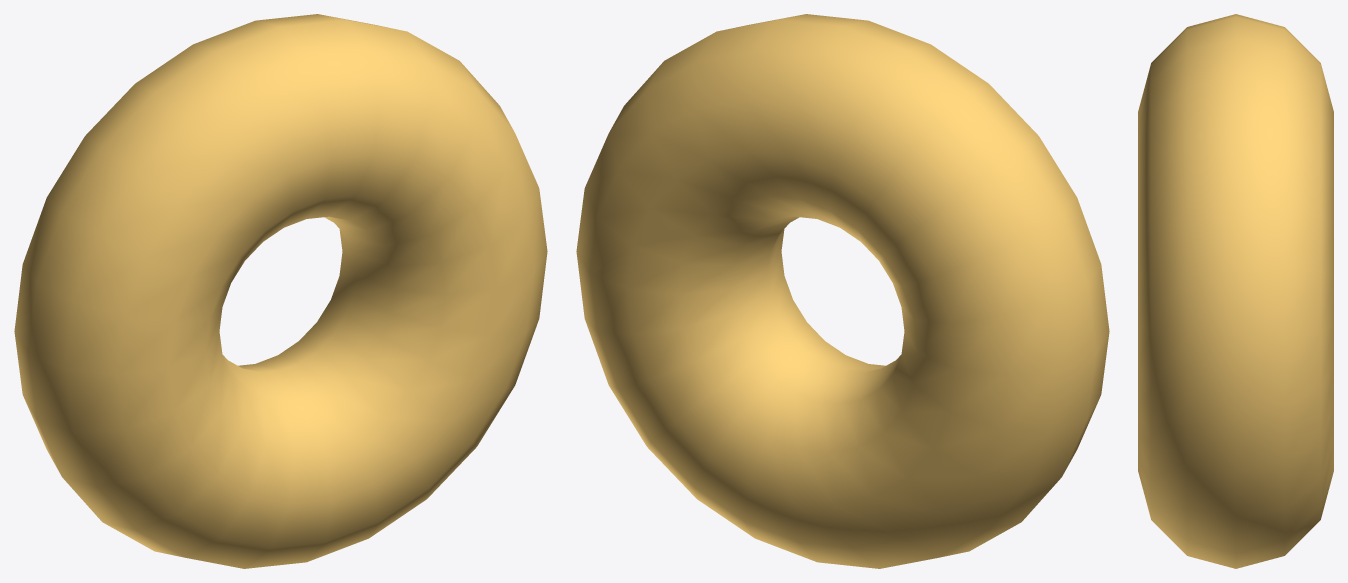
File: dohnut.FBX
The picture shows the model from 3 angles, left to right: view 1: azimuth 30°, elevation 25°; view 2: azimuth 150°, elevation 25°; view 3: azimuth 270°, elevation 25°; orthographic projection. The views are drawn at different scales.
Visible parts, largest first — view 1: Torus001; view 2: Torus001; view 3: Torus001.
Part boxes in pixels (x1,y1,x2,y2): Torus001: [14, 14, 547, 568]; Torus001: [576, 14, 1109, 568]; Torus001: [1138, 14, 1333, 568].
Bounding box in the file's own units: 48.74 × 48.74 × 17.12.
